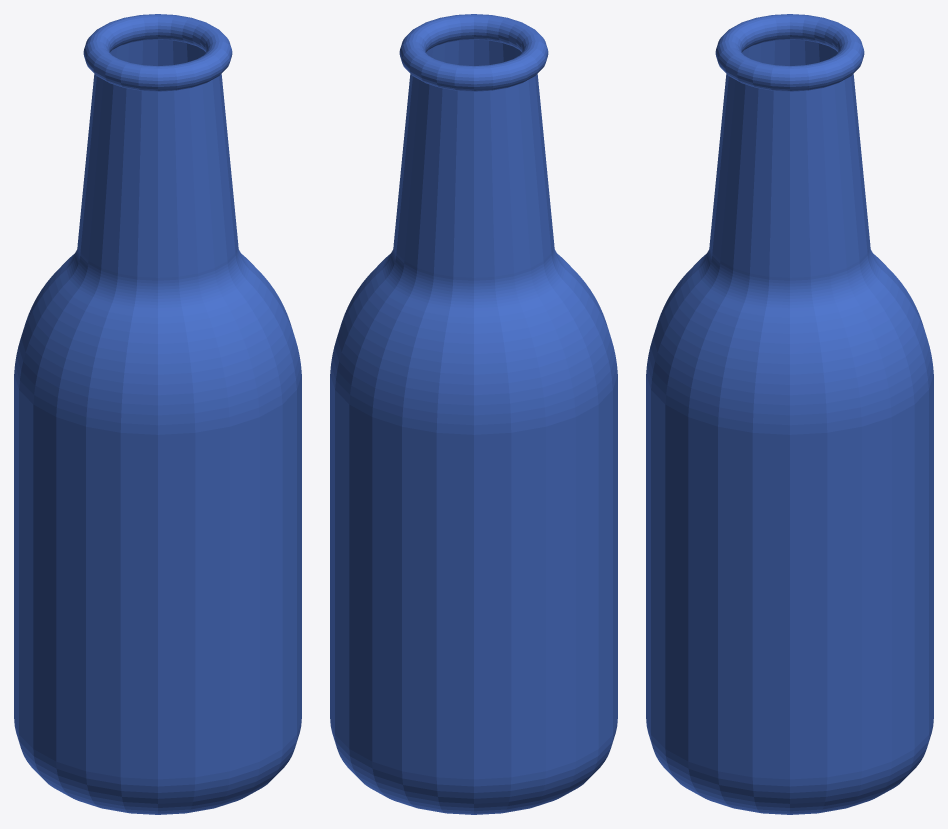
3 renders of one model, left to right at view 1: azimuth 30°, elevation 25°; view 2: azimuth 150°, elevation 25°; view 3: azimuth 270°, elevation 25°, orthographic.
Visible parts, largest first — view 1: mesh1.001_mesh1-geometry; view 2: mesh1.001_mesh1-geometry; view 3: mesh1.001_mesh1-geometry.
Part boxes in pixels (x1,y1,x2,y2): mesh1.001_mesh1-geometry: (14,14,301,814); mesh1.001_mesh1-geometry: (330,14,617,814); mesh1.001_mesh1-geometry: (646,14,933,814).
Bounding box in the file's own units: 0.3177 × 0.8934 × 0.3177.
